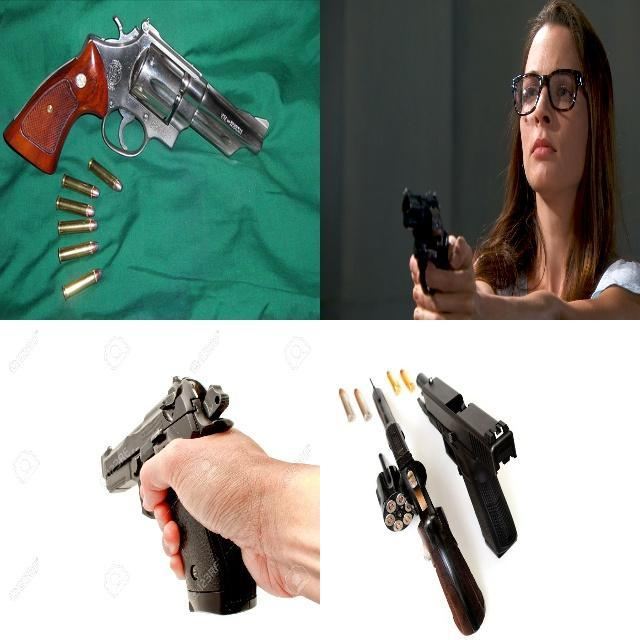gun-knife-thesis - v11 Yolov5 augmented: (99, 350, 260, 616), (0, 14, 269, 170), (366, 376, 484, 635), (414, 370, 517, 557), (398, 181, 448, 295)
